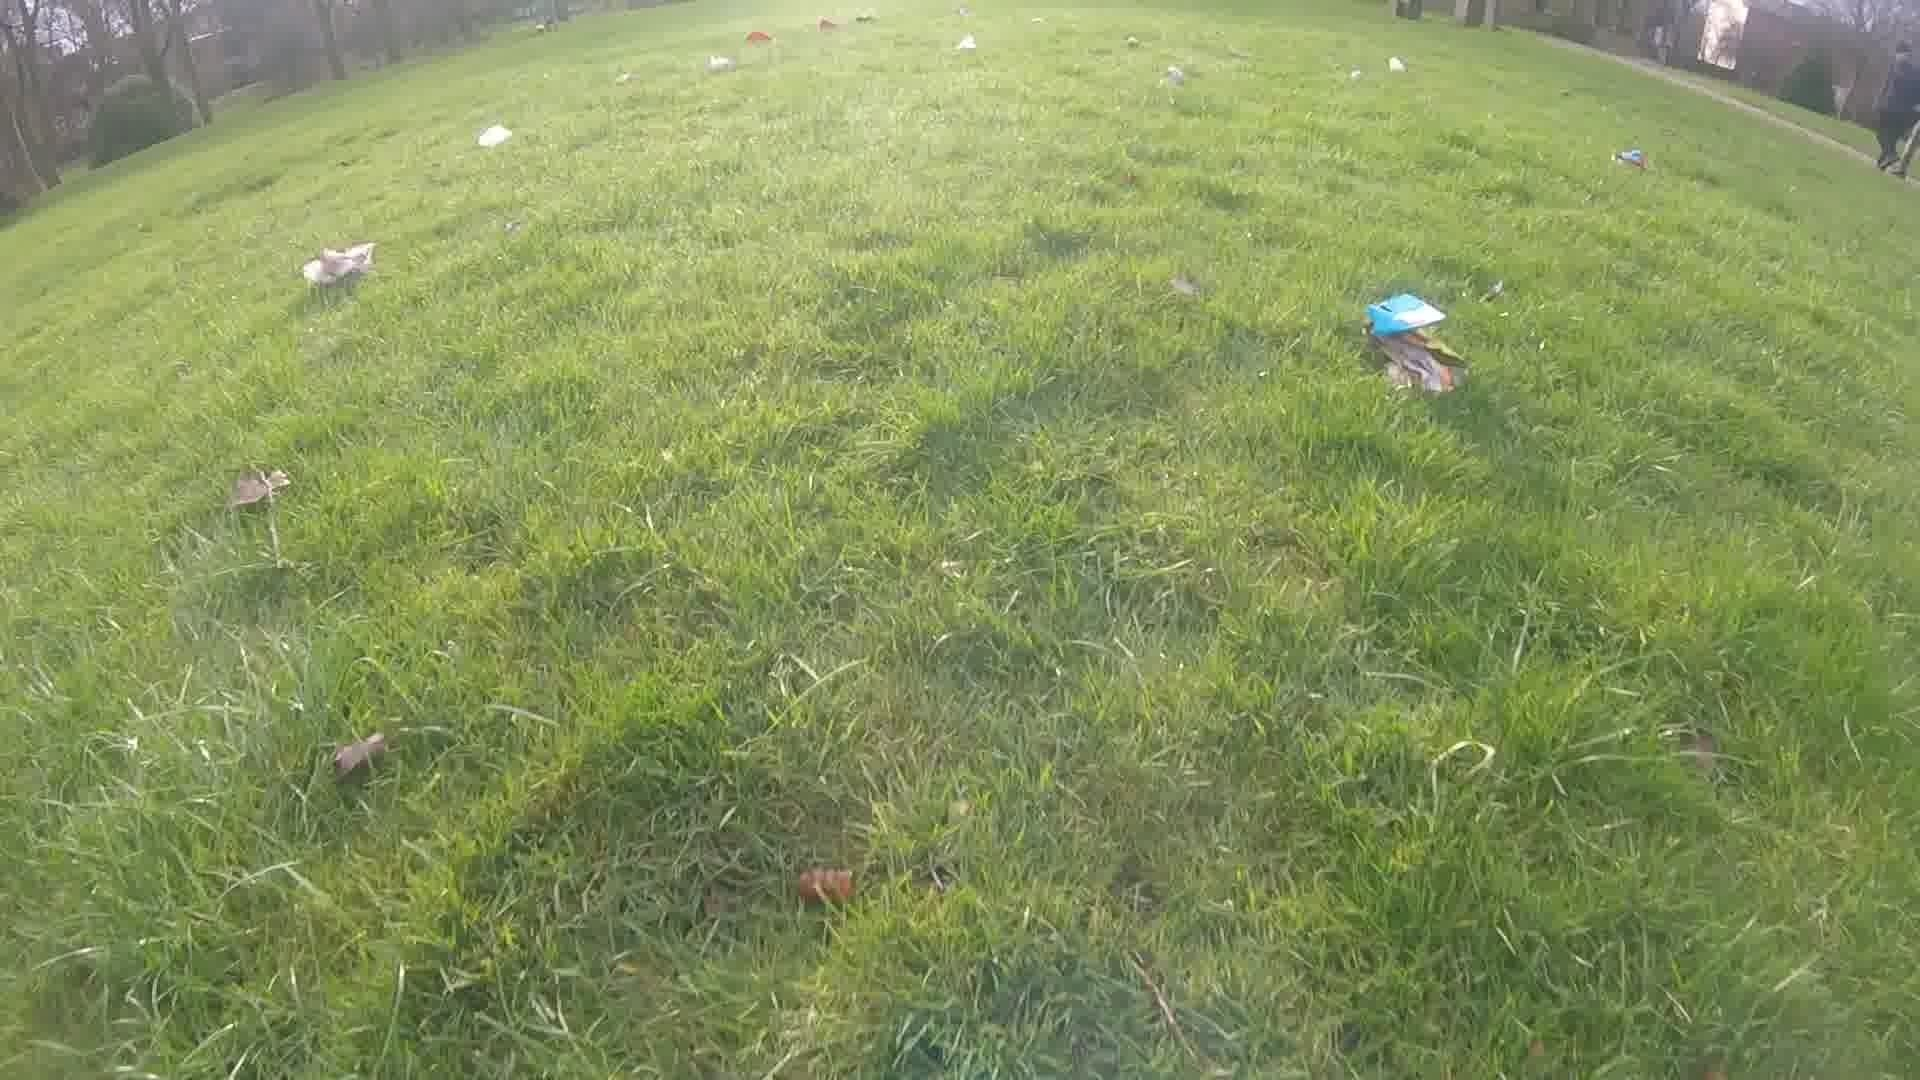litter: (1370, 298, 1472, 389), (299, 243, 376, 285), (472, 121, 512, 144), (1615, 153, 1650, 175), (1159, 65, 1185, 88), (1385, 55, 1408, 76), (1342, 66, 1366, 87), (703, 54, 732, 71), (952, 36, 975, 54), (849, 11, 884, 22), (738, 32, 773, 42), (807, 18, 840, 29), (1118, 37, 1141, 47), (953, 7, 975, 15)
